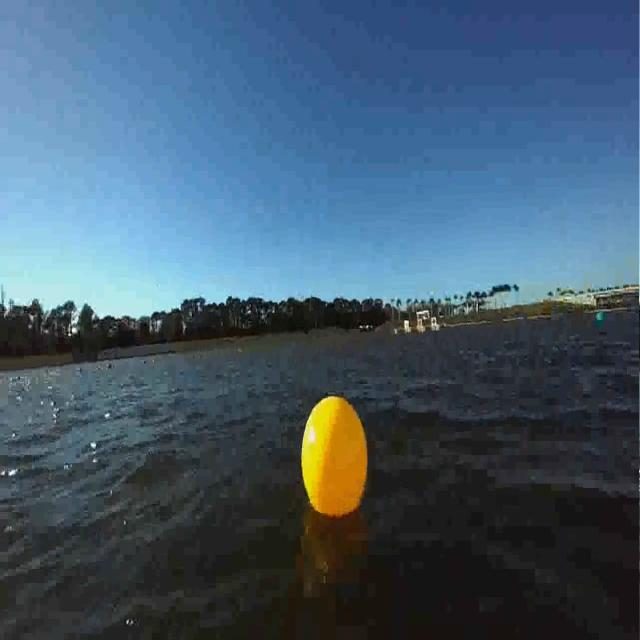yellow-buoy: (304, 396, 372, 521)
